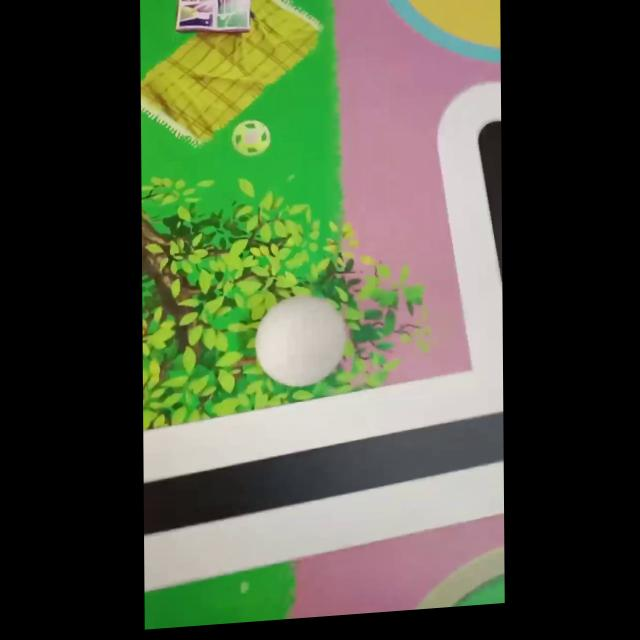white ball: (254, 291, 348, 390)
